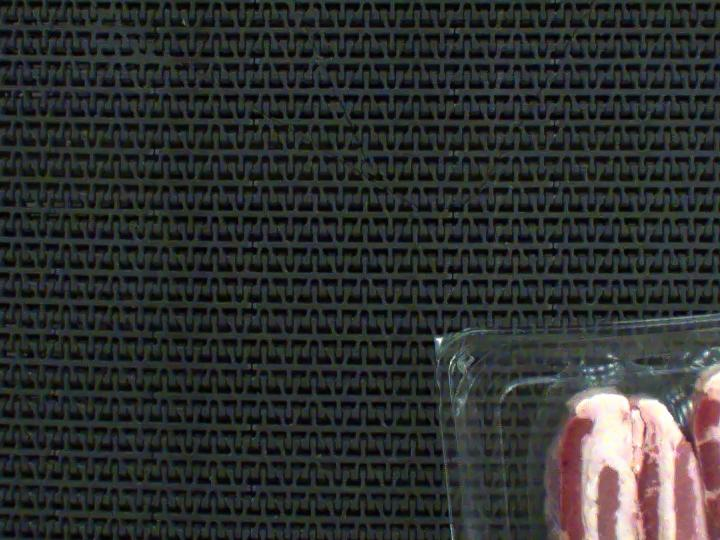unsealed: (521, 335, 720, 487)
